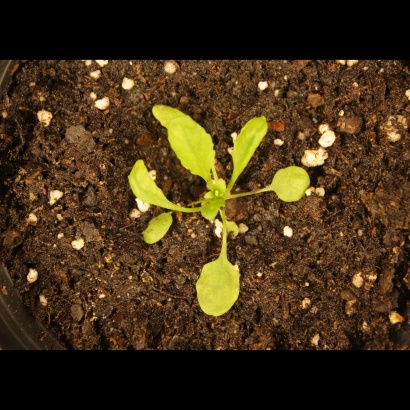leaf: (147, 97, 219, 183), (188, 245, 247, 325), (125, 153, 178, 214), (230, 113, 268, 185), (268, 161, 313, 206), (137, 213, 176, 253), (198, 195, 226, 226), (206, 176, 229, 199)
